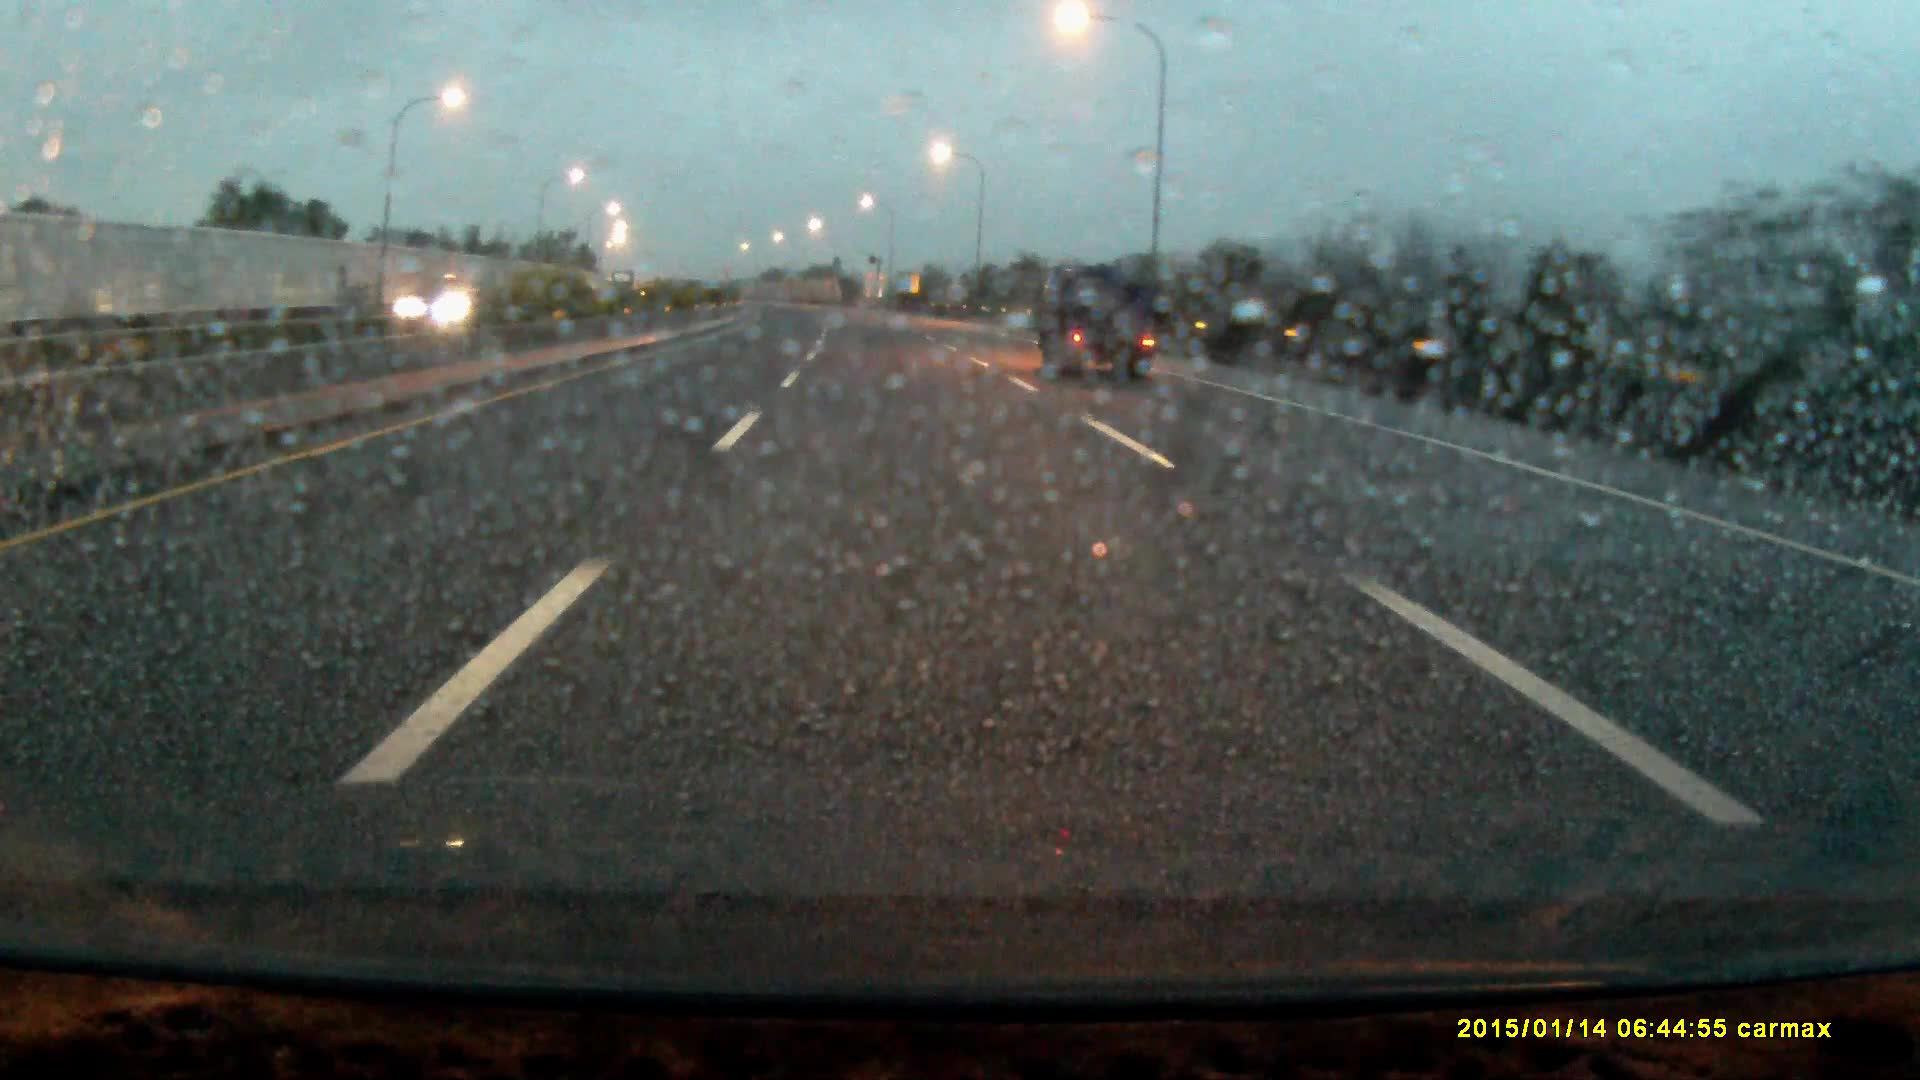vehicle: (1042, 269, 1154, 378), (388, 276, 483, 327), (612, 269, 636, 291)
